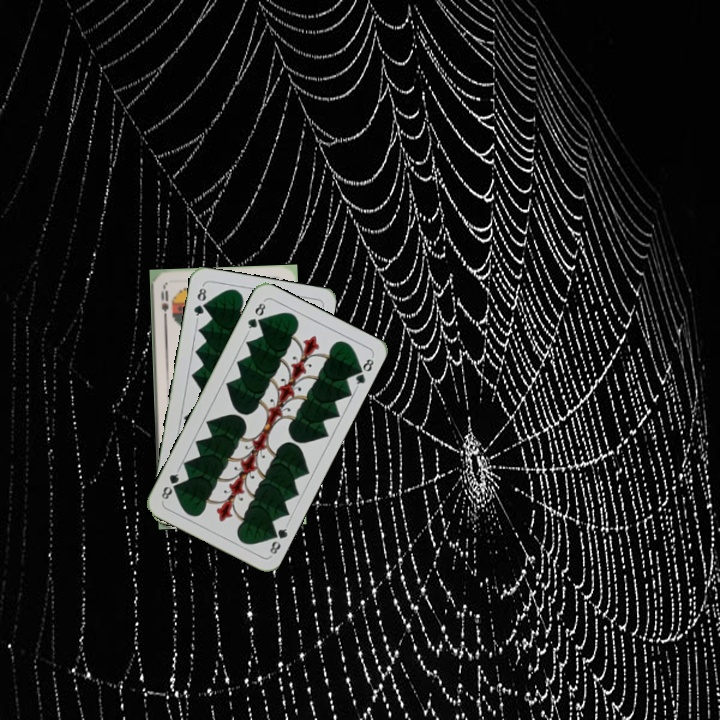G8: (266, 520, 291, 558), (244, 297, 268, 335), (189, 282, 209, 322)
SO: (157, 284, 171, 324)
